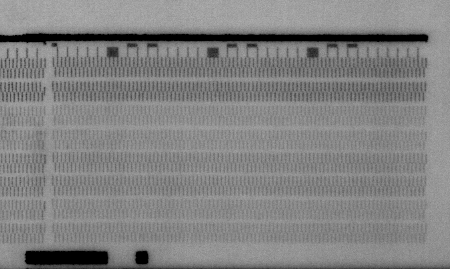Oblique printing: (39, 82, 50, 97)
